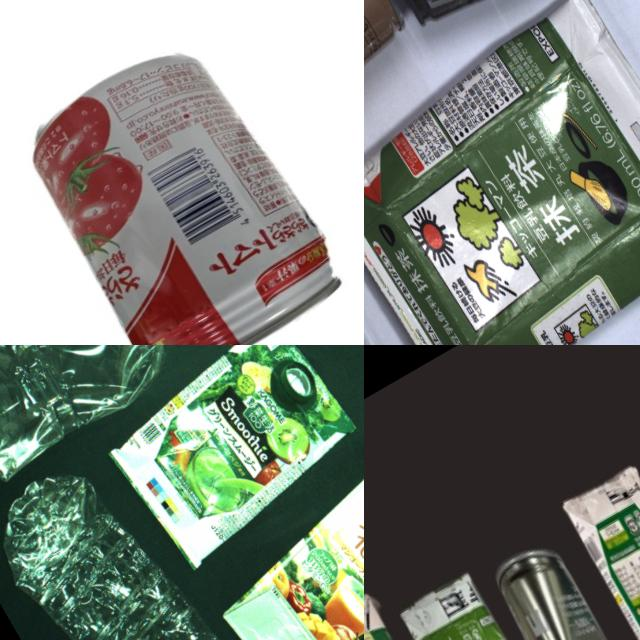Aluminium Foil: (364, 0, 640, 345), (82, 345, 364, 574), (184, 401, 364, 640), (393, 567, 620, 640), (553, 450, 640, 640)
Can: (3, 20, 360, 345), (484, 541, 640, 640)
Transparent Plastic Bottle: (0, 450, 268, 640), (0, 345, 224, 499)
